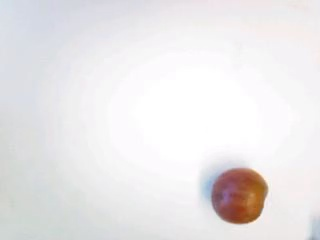apple: (211, 166, 268, 223)
